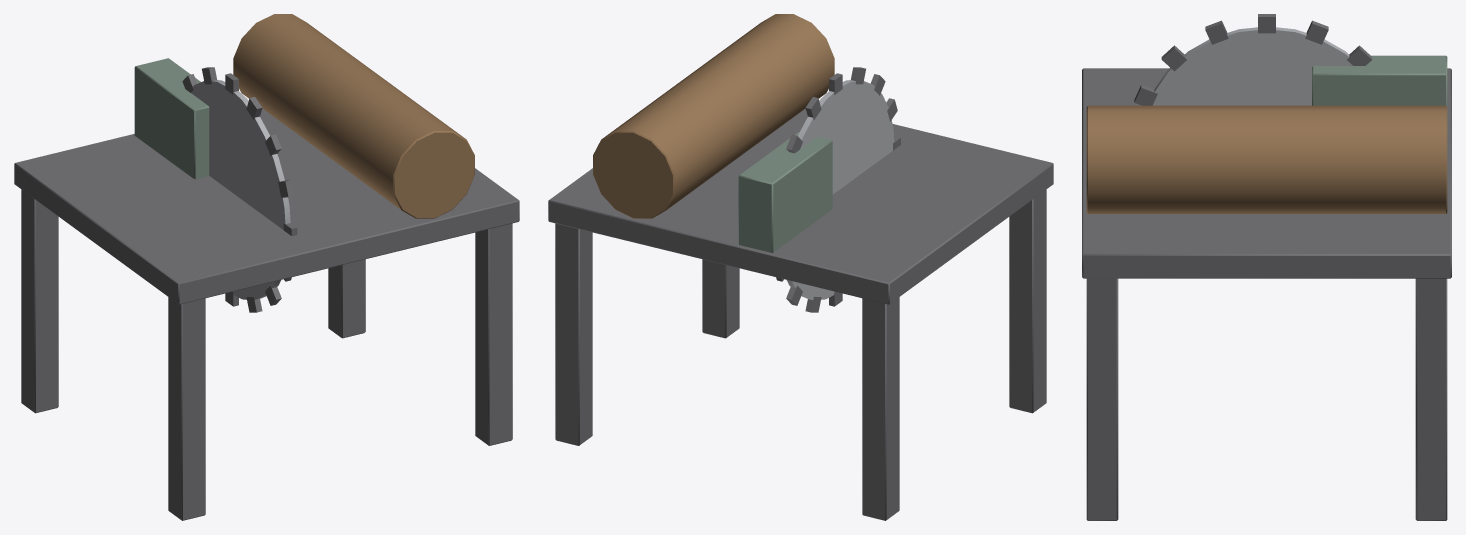
File: feM_Sawmill.fbx
The picture shows the model from 3 angles, left to right: view 1: azimuth 30°, elevation 25°; view 2: azimuth 150°, elevation 25°; view 3: azimuth 270°, elevation 25°; orthographic projection. The views are drawn at different scales.
Parts seen in each view (by area): view 1: feM_Sawmill_Base, FeSpin_x8_Blade; view 2: feM_Sawmill_Base, FeSpin_x8_Blade; view 3: feM_Sawmill_Base, FeSpin_x8_Blade.
Part boxes in pixels (<box>): feM_Sawmill_Base: <box>14,14,519,520</box>; FeSpin_x8_Blade: <box>182,67,297,312</box>; feM_Sawmill_Base: <box>548,14,1053,520</box>; FeSpin_x8_Blade: <box>776,67,900,312</box>; feM_Sawmill_Base: <box>1082,55,1451,520</box>; FeSpin_x8_Blade: <box>1134,14,1372,105</box>.
Size of the model in its own units: 0.98 by 0.97 by 0.82.
